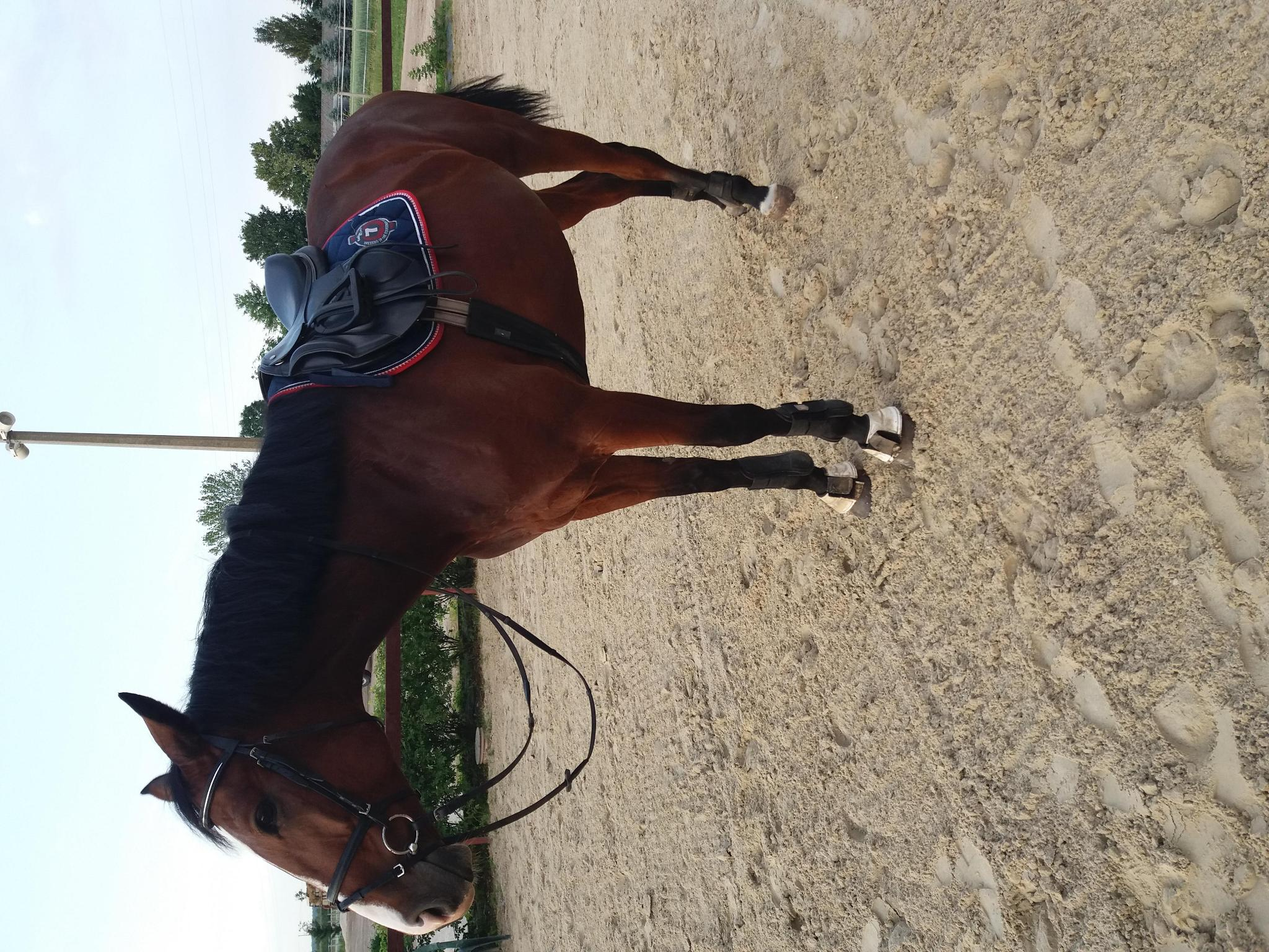horse: (118, 71, 914, 936)
